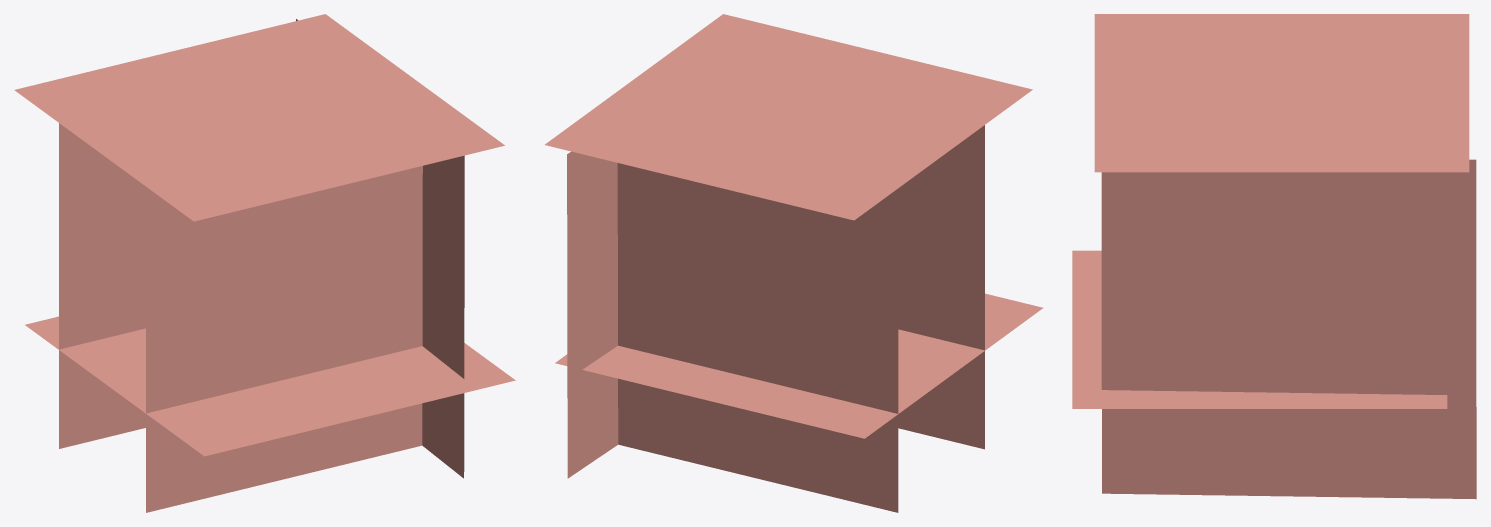
The model's file is Main_Room.fbx.
The picture shows the model from 3 angles, left to right: view 1: azimuth 30°, elevation 25°; view 2: azimuth 150°, elevation 25°; view 3: azimuth 270°, elevation 25°; orthographic projection. The views are drawn at different scales.
Visible parts, largest first — view 1: Plane.004, Plane.006, Plane, Plane.005, Plane.003; view 2: Plane.005, Plane.006, Plane.004, Plane, Plane.003; view 3: Plane.003, Plane.006, Plane.
Part boxes in pixels (left/top/right/bottom): Plane.004: left=146, top=166, right=422, bottom=512; Plane.006: left=14, top=14, right=504, bottom=221; Plane: left=25, top=316, right=515, bottom=456; Plane.005: left=59, top=123, right=145, bottom=448; Plane.003: left=296, top=19, right=464, bottom=478; Plane.005: left=617, top=163, right=898, bottom=512; Plane.006: left=545, top=14, right=1032, bottom=220; Plane.004: left=898, top=125, right=984, bottom=449; Plane: left=555, top=293, right=1043, bottom=438; Plane.003: left=567, top=151, right=618, bottom=478; Plane.003: left=1101, top=159, right=1476, bottom=499; Plane.006: left=1094, top=14, right=1469, bottom=172; Plane: left=1072, top=250, right=1447, bottom=408.
Size of the model in its own units: 2176 by 2179 by 2343.
